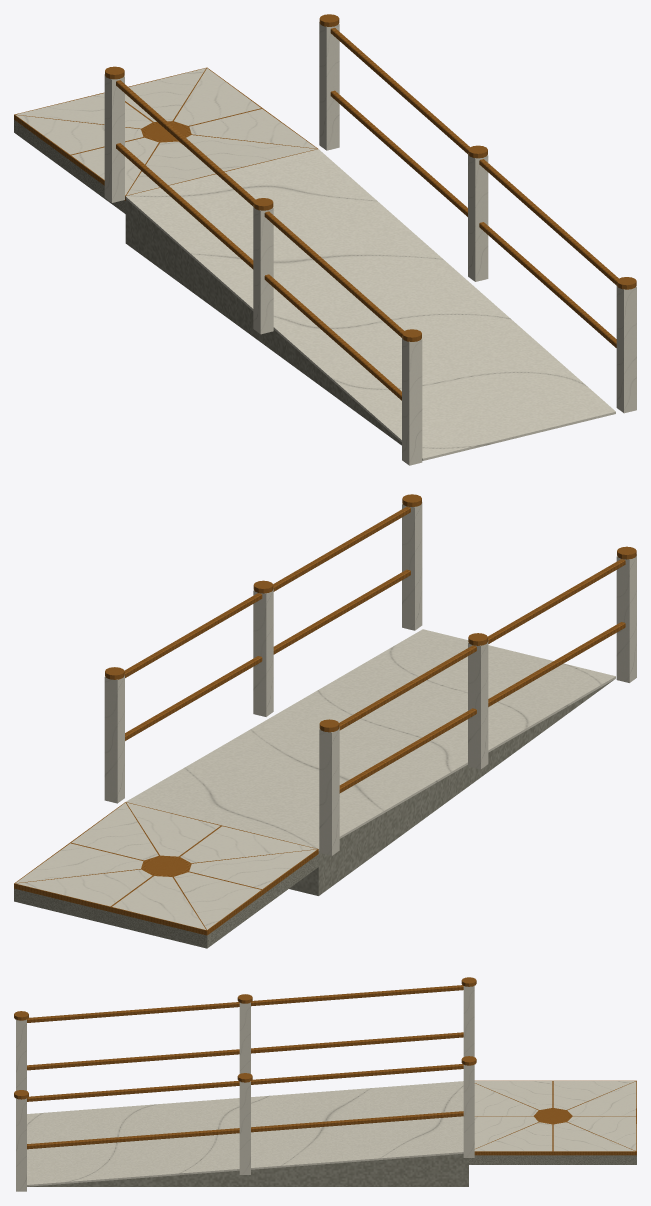
Rendered from assembly.glb.
3 renders of one model, top to bottom at view 1: azimuth 30°, elevation 25°; view 2: azimuth 150°, elevation 25°; view 3: azimuth 270°, elevation 25°, orthographic. The views are drawn at different scales.
Visible parts, largest first — view 1: Separate 20mm marble ramp facing, Stone ramp support, Continuous bronze guardrail.001, Continuous bronze guardrail.003, Continuous bronze guardrail, Continuous bronze guardrail.002, Outside-route guard post.003, Outside-route guard post, Replaceable flush radial marble floor sector.002, Replaceable flush radial marble floor sector.003, Outside-route guard post.001, Outside-route guard post.002 (+10 smaller); view 2: Separate 20mm marble ramp facing, Stone ramp support, Stone floor substrate, Recessed continuous bronze inlay bed, Outside-route guard post.005, Outside-route guard post.002, Replaceable flush radial marble floor sector, Replaceable flush radial marble floor sector.004, Replaceable flush radial marble floor sector.003, Replaceable flush radial marble floor sector.007, Replaceable flush radial marble floor sector.001, Replaceable flush radial marble floor sector.005 (+10 smaller); view 3: Separate 20mm marble ramp facing, Stone ramp support, Continuous bronze guardrail.002, Continuous bronze guardrail, Continuous bronze guardrail.001, Continuous bronze guardrail.003, Recessed continuous bronze inlay bed, Stone floor substrate, Replaceable flush radial marble floor sector.003, Replaceable flush radial marble floor sector.002, Replaceable flush radial marble floor sector.004, Replaceable flush radial marble floor sector.005 (+11 smaller).
Boxes of the visible parts, box(x1,y1,x2,y2) form: Separate 20mm marble ramp facing: box(125, 149, 615, 460); Stone ramp support: box(125, 199, 401, 445); Continuous bronze guardrail.001: box(116, 80, 403, 337); Continuous bronze guardrail.003: box(330, 28, 618, 285); Continuous bronze guardrail: box(116, 143, 401, 400); Continuous bronze guardrail.002: box(330, 90, 616, 347); Outside-route guard post.003: box(616, 284, 636, 413); Outside-route guard post: box(402, 337, 422, 465); Replaceable flush radial marble floor sector.002: box(189, 109, 316, 148); Replaceable flush radial marble floor sector.003: box(174, 68, 260, 125); Outside-route guard post.001: box(253, 205, 273, 334); Outside-route guard post.002: box(104, 74, 124, 202); Separate 20mm marble ramp facing: box(126, 629, 615, 850); Stone ramp support: box(289, 679, 614, 895); Stone floor substrate: box(14, 854, 318, 948); Recessed continuous bronze inlay bed: box(14, 802, 318, 935); Outside-route guard post.005: box(104, 675, 124, 803); Outside-route guard post.002: box(319, 727, 339, 855); Replaceable flush radial marble floor sector: box(180, 826, 315, 862); Replaceable flush radial marble floor sector.004: box(16, 869, 152, 906); Replaceable flush radial marble floor sector.003: box(15, 843, 143, 883); Replaceable flush radial marble floor sector.007: box(189, 849, 316, 889); Replaceable flush radial marble floor sector.001: box(126, 802, 220, 856); Replaceable flush radial marble floor sector.005: box(112, 876, 205, 929); Separate 20mm marble ramp facing: box(27, 1081, 463, 1186); Stone ramp support: box(27, 1153, 468, 1186); Continuous bronze guardrail.002: box(27, 1111, 463, 1149); Continuous bronze guardrail: box(27, 1032, 463, 1070); Continuous bronze guardrail.001: box(27, 985, 463, 1022); Continuous bronze guardrail.003: box(27, 1064, 463, 1101); Recessed continuous bronze inlay bed: box(474, 1080, 636, 1155); Stone floor substrate: box(469, 1155, 636, 1164); Replaceable flush radial marble floor sector.003: box(553, 1122, 634, 1151); Replaceable flush radial marble floor sector.002: box(474, 1122, 552, 1151); Replaceable flush radial marble floor sector.004: box(567, 1116, 636, 1150); Replaceable flush radial marble floor sector.005: box(567, 1081, 636, 1115).
Bounding box in the file's own units: 2.16 × 1.56 × 6.68.
6 materials, 6 textured.
